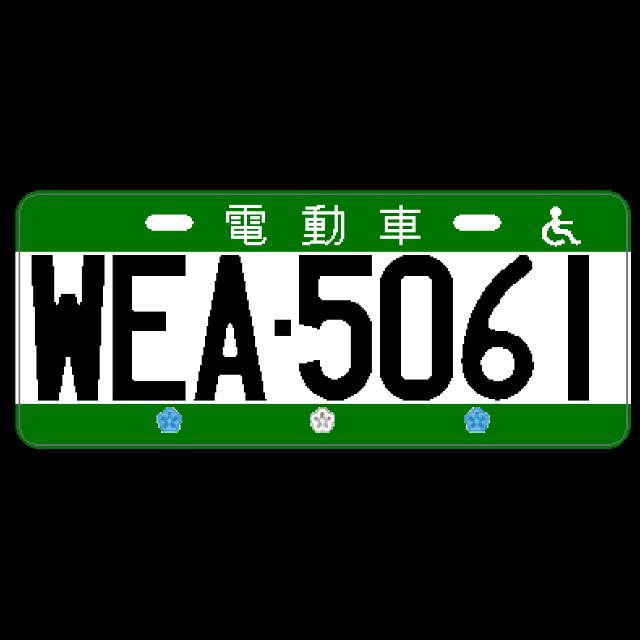plate: (12, 186, 634, 450)
